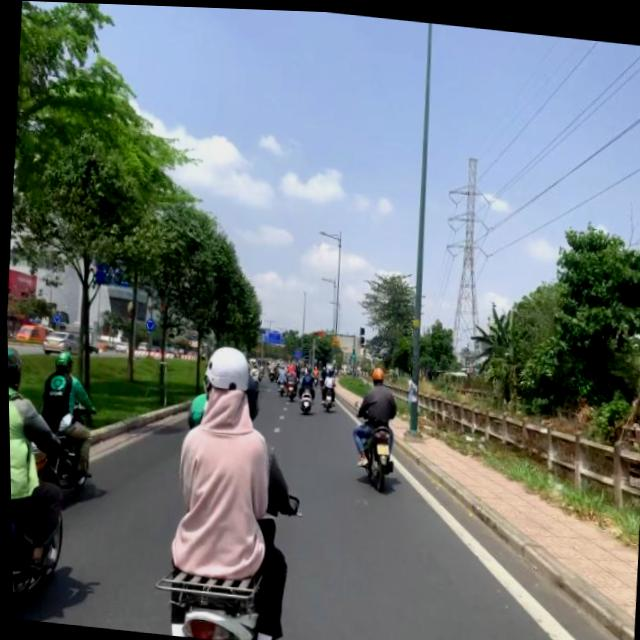Noi giao nhau chay theo vong xuyen: (143, 316, 153, 329), (52, 314, 59, 323)
